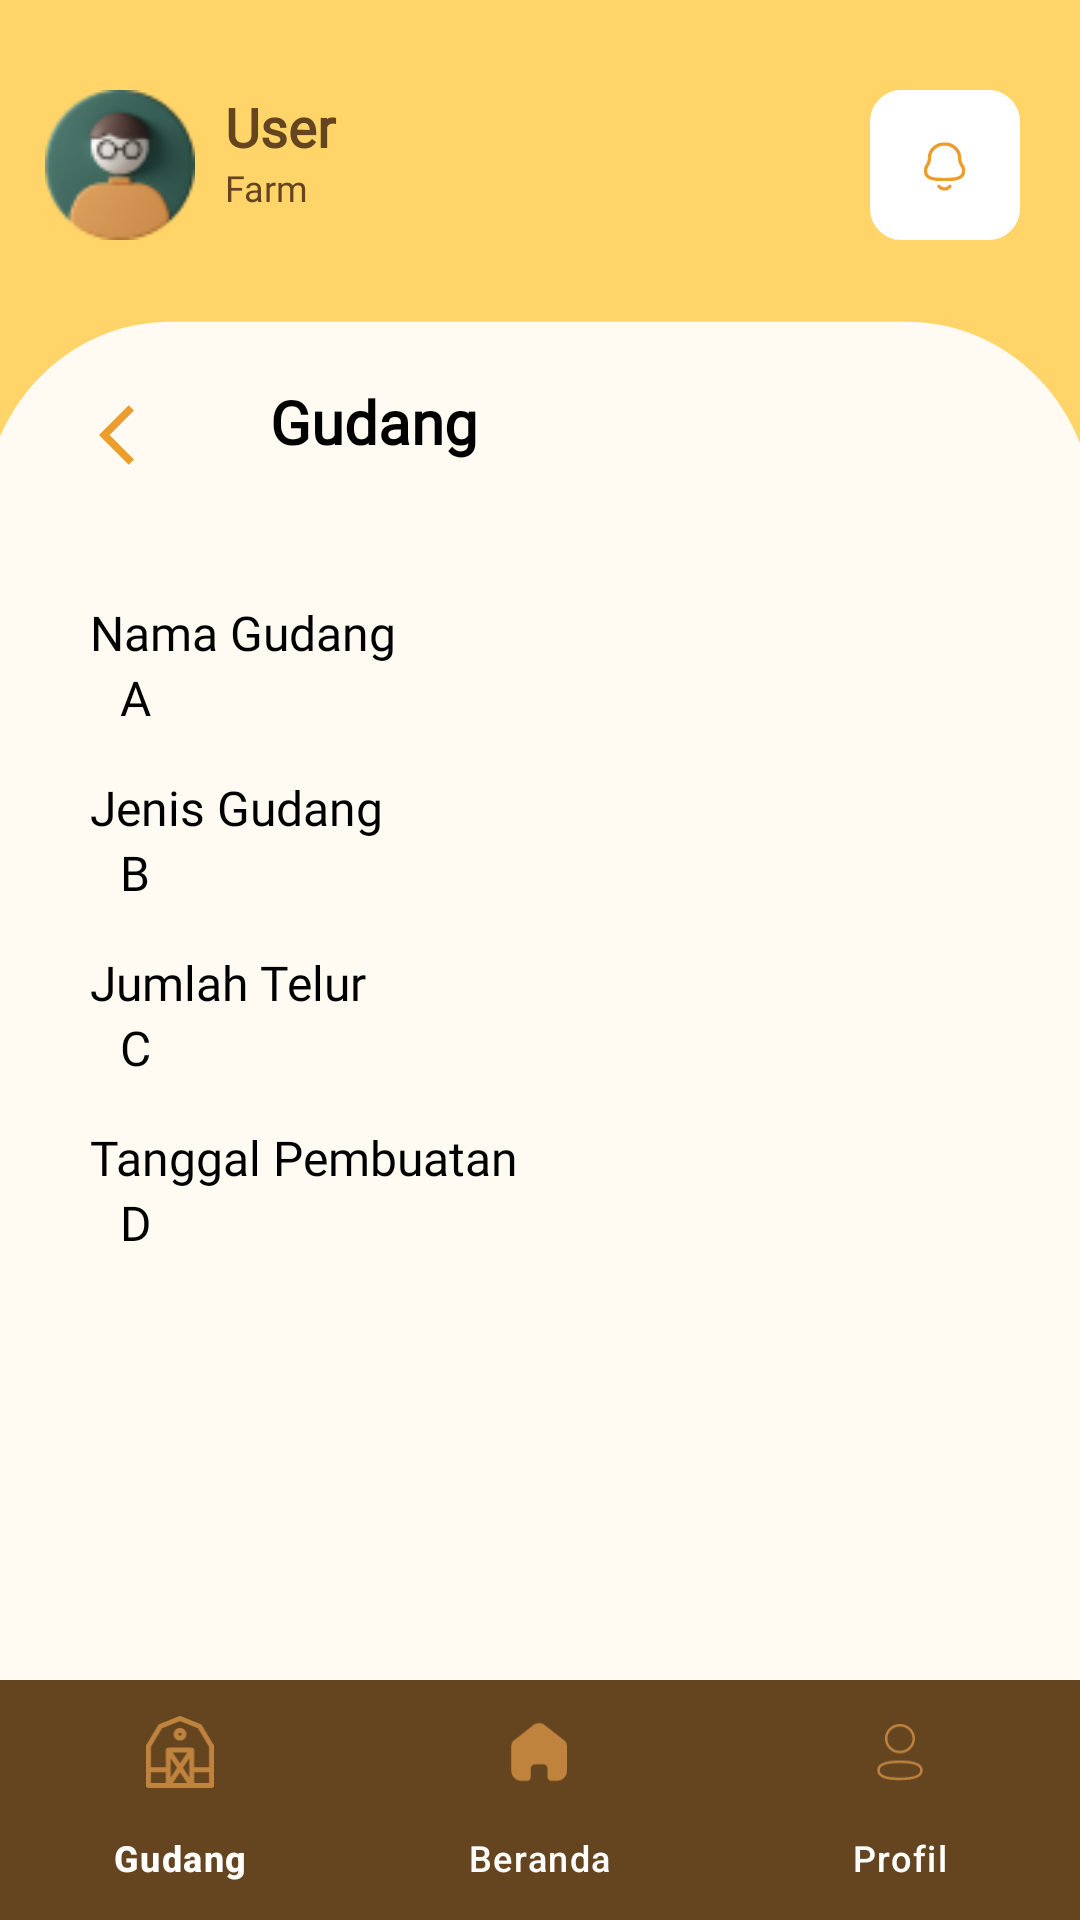

Icons on this 1080 x 1920 Android screen, each with its box as (x1, y1, x2, y2):
bell: (870, 90, 1020, 240)
profile pic: (45, 90, 195, 240)
